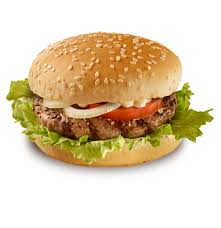hamburger: (17, 31, 200, 168)
